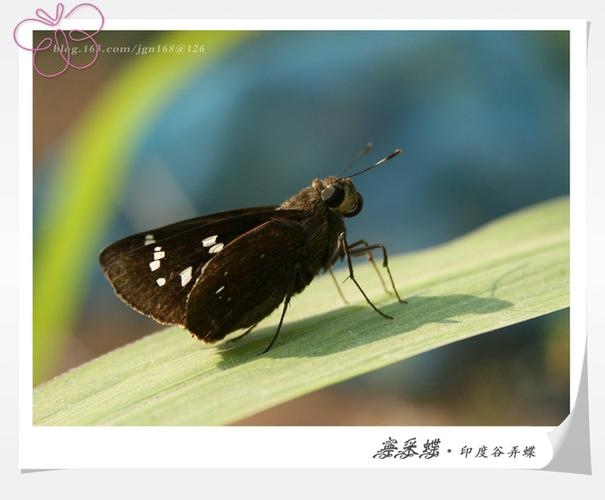Hesperiidae: (94, 141, 411, 357)
